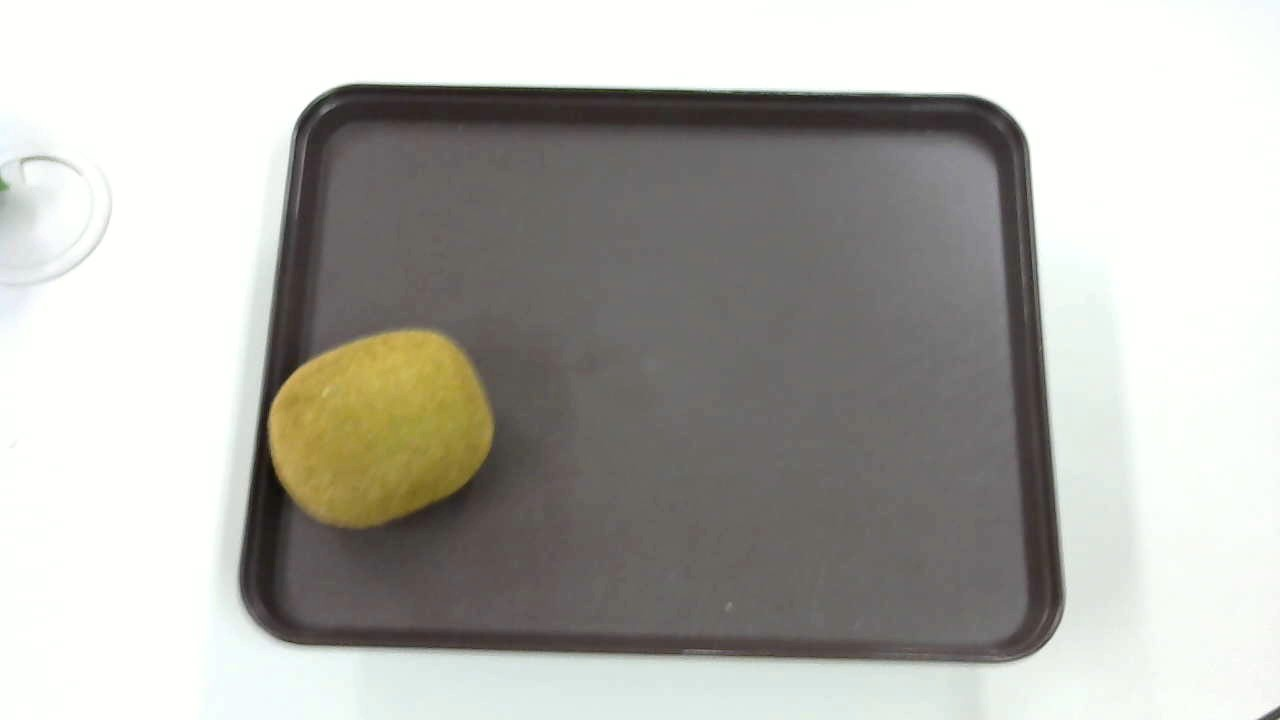mangosteen: (268, 324, 518, 532)
